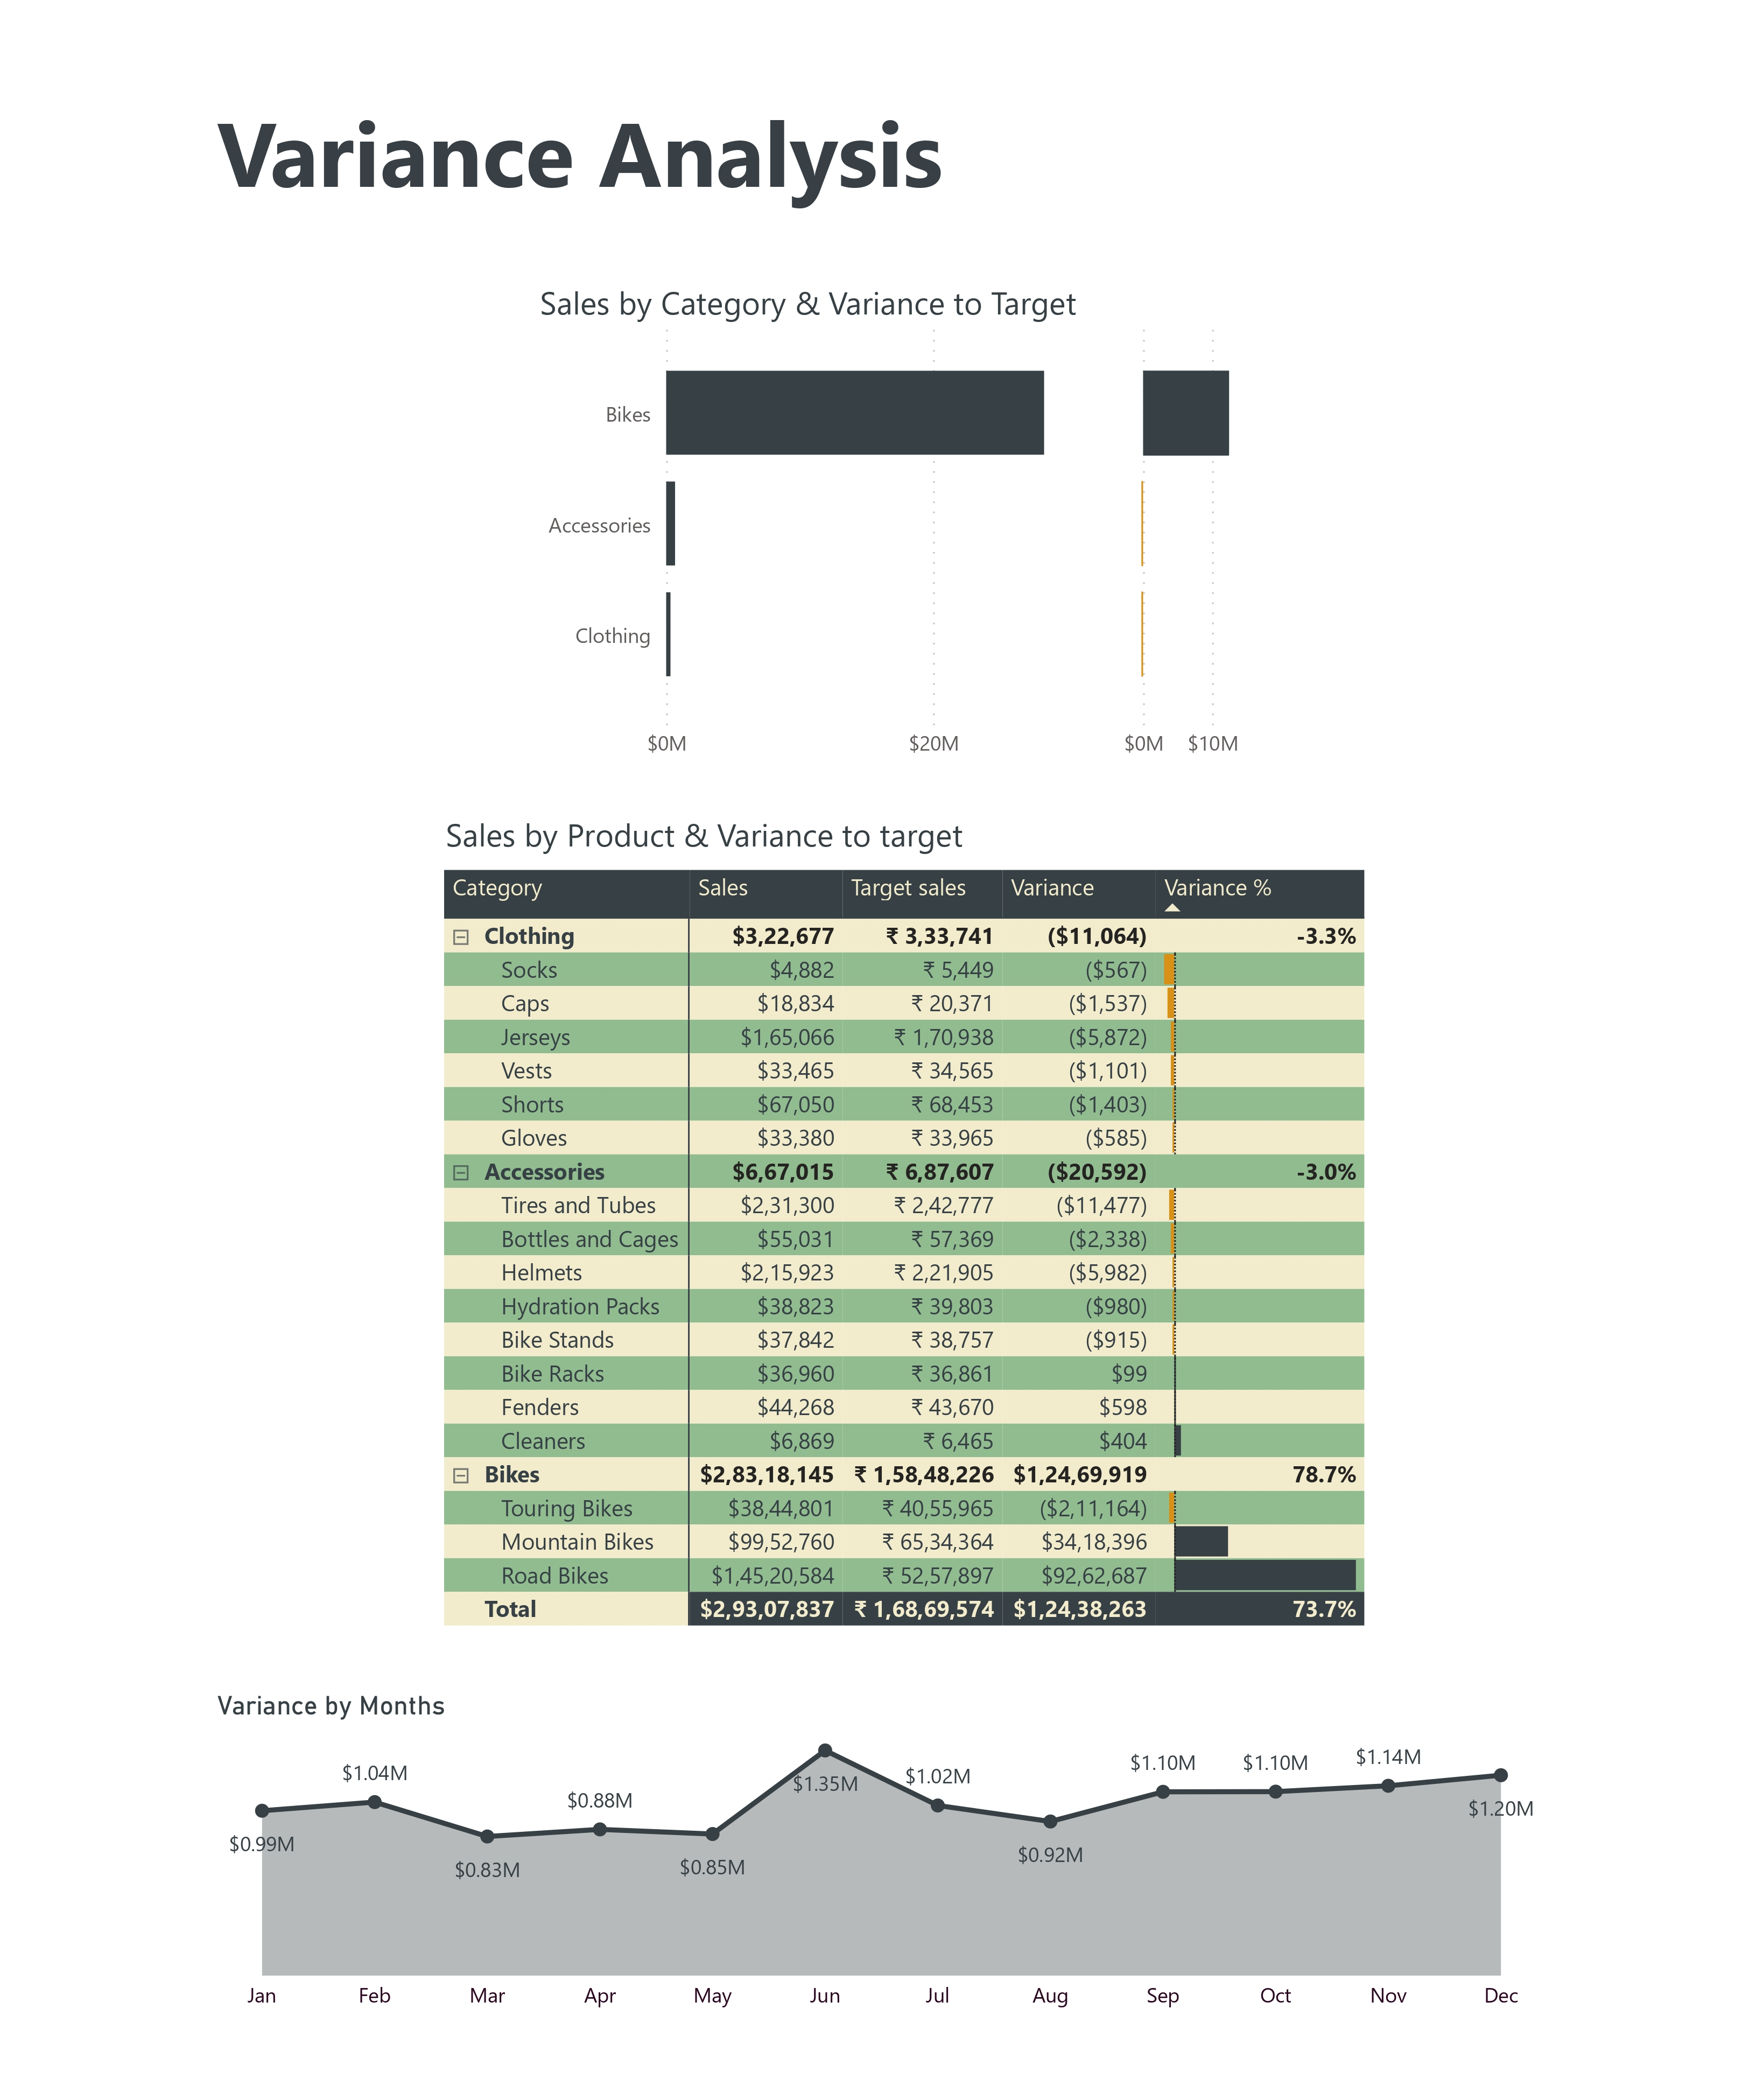

The page's visual inventory and layout, read from the dashboard file:
{"tool":"powerbi","page":{"name":"Variance analysis","canvas":[1000,1200],"ordinal":2},"visuals":[{"type":"group","id":"g1","title":"Group 1","box":[291.7,156.7,446.7,280],"z":0},{"type":"barChart","fields":{"Y":["Budget.Variance"],"Category":["Product.Category"]},"box":[618.1,156.7,119.5,278.6],"z":1000,"group":"g1"},{"type":"pivotTable","fields":{"Rows":["Product.Category","Product.SubCategory"],"Values":["Sales.Sales","Budget.Target sales","Budget.Variance","Budget.Variance %"]},"box":[235,488.3,560,461.7],"z":1000},{"type":"barChart","fields":{"Category":["Product.Category"],"Y":["BaseMeasure.Revenue"]},"box":[291.7,157,339,278.6],"z":2000,"group":"g1"},{"type":"areaChart","title":"Variance by Months","fields":{"Category":["Calender_2.Month_Name"],"Y":["Budget.Variance"]},"box":[100,980,800,200],"z":2000},{"type":"textbox","box":[100,24,462,132],"z":3000},{"type":"textbox","box":[235.6,454.4,382.2,34.4],"z":4000},{"type":"textbox","box":[292,138,447,37],"z":5000}]}

Visuals, with their boxes in screenshot pixels (x1, y1, x2, y2):
"Group 1" group: 531:304:1282:775
barChart - Budget.Variance x Product.Category: 1080:304:1281:773
pivotTable - Product.Category x Product.SubCategory: 436:862:1378:1639
barChart - Product.Category x BaseMeasure.Revenue: 531:305:1101:773
"Variance by Months" areaChart: 209:1690:1555:2026
textbox: 209:81:986:303
textbox: 437:805:1080:863
textbox: 532:272:1283:335
